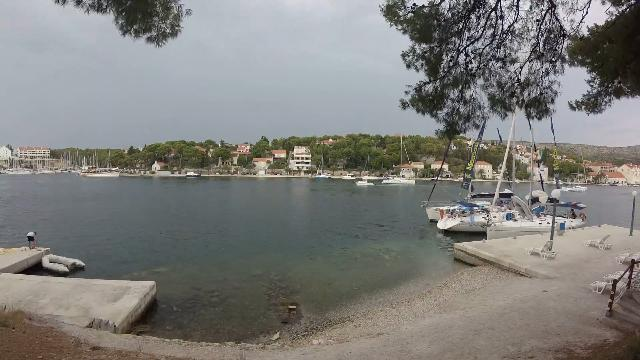Sailboat: (379, 172, 417, 188)
speedboat: (351, 176, 379, 187)
